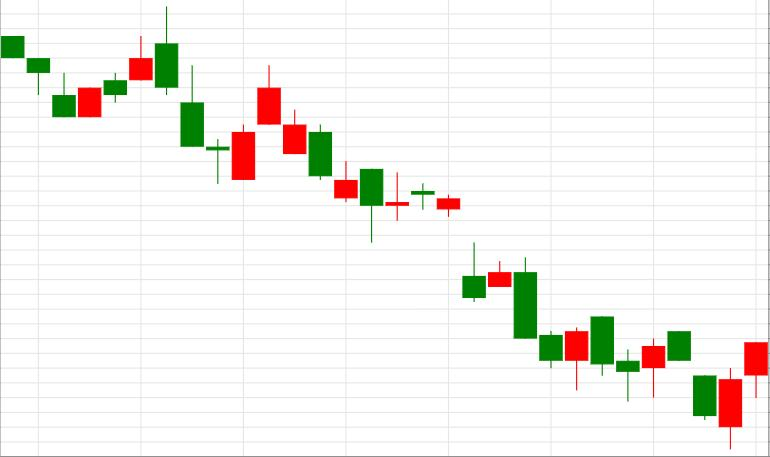bearish_engulfing_fall: (53, 5, 178, 117)
bullish_engulfing_rise: (514, 257, 742, 452)
